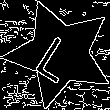L_NE: (33, 24, 86, 83)
